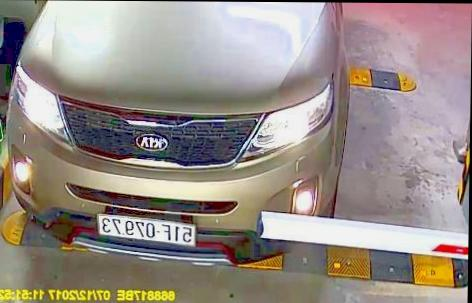License_Plate: (92, 213, 197, 245)
